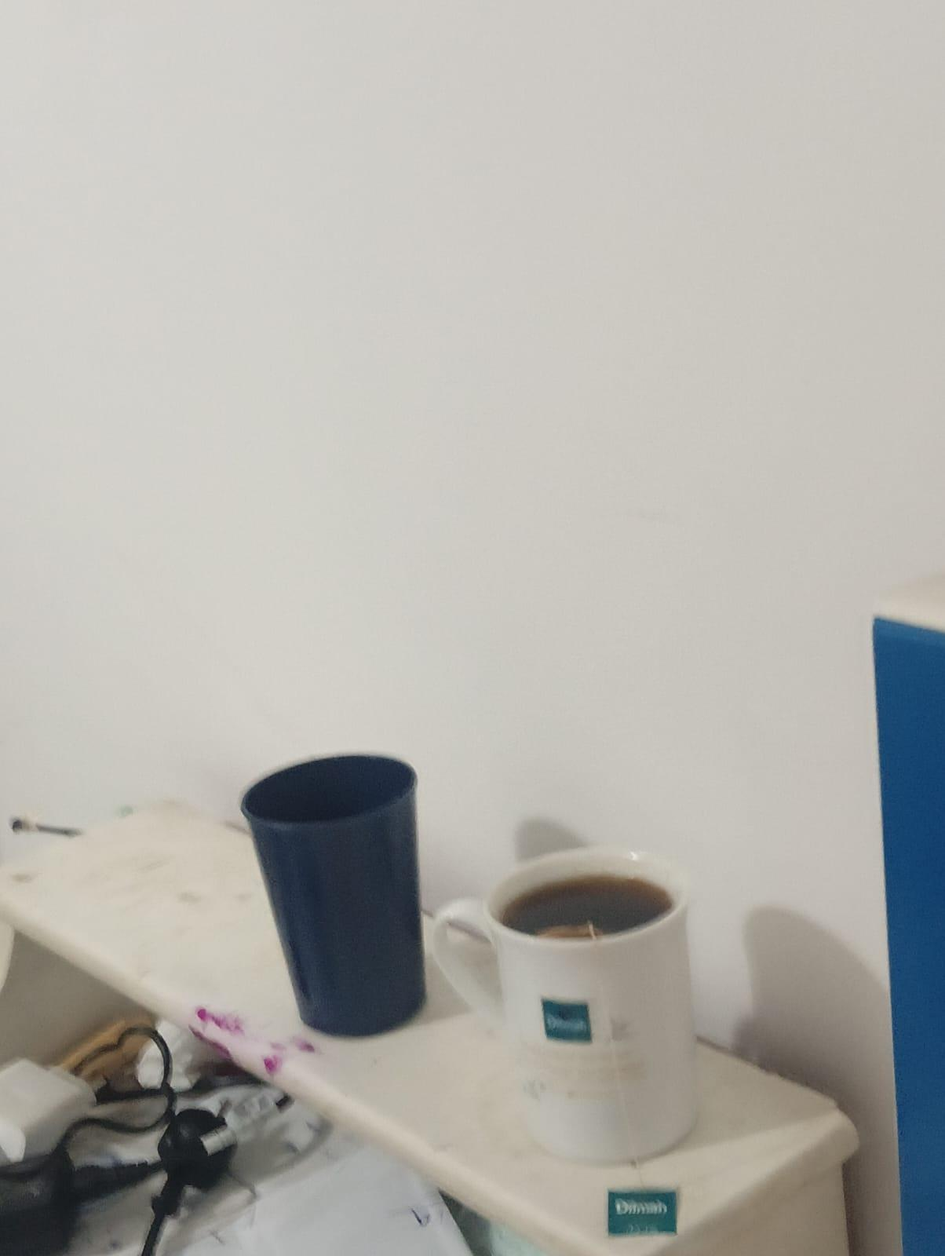cup: (431, 849, 696, 1163), (242, 754, 425, 1036), (509, 879, 668, 936)
